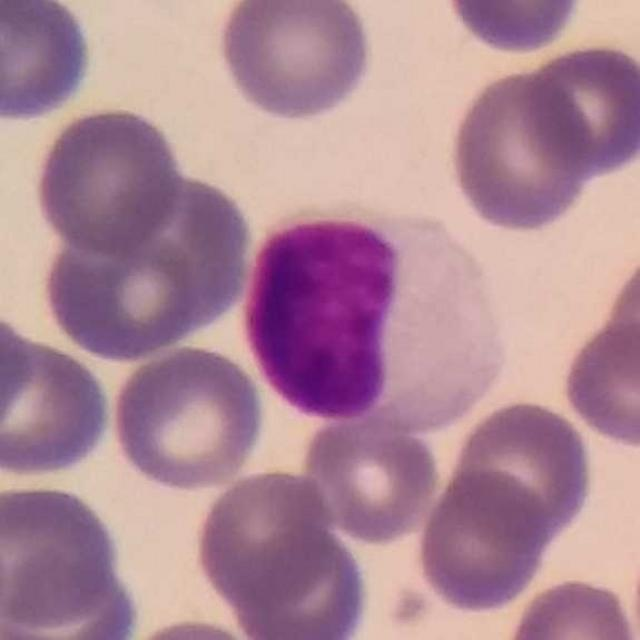Lymphocyte: (236, 206, 516, 426)
RBC: (36, 170, 255, 364), (444, 63, 599, 236), (107, 342, 268, 494), (30, 103, 185, 257), (444, 394, 598, 548), (192, 465, 340, 611), (413, 464, 553, 616), (212, 0, 378, 126), (296, 410, 442, 548), (0, 478, 125, 629), (0, 323, 116, 481), (515, 38, 640, 179), (230, 524, 374, 640), (0, 552, 146, 639), (0, 0, 97, 125), (557, 313, 640, 452), (503, 574, 640, 640), (440, 0, 588, 56), (0, 536, 71, 640), (597, 240, 640, 402), (0, 300, 36, 440), (114, 614, 266, 640)
